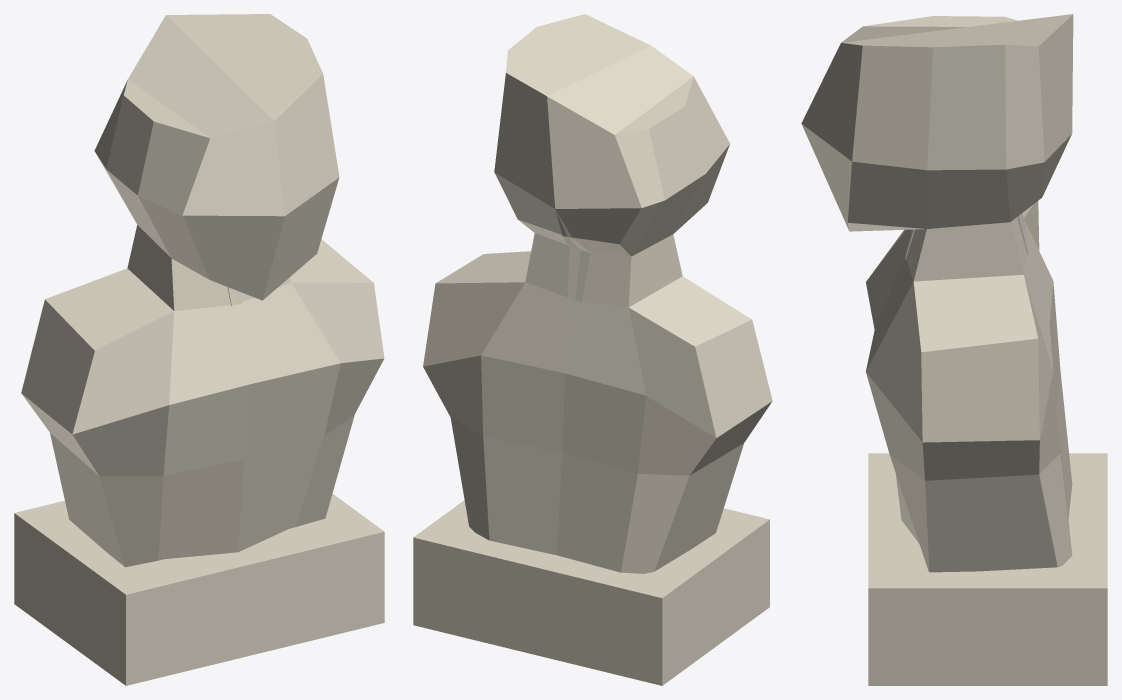
File: Busto.fbx
The picture shows the model from 3 angles, left to right: view 1: azimuth 30°, elevation 25°; view 2: azimuth 150°, elevation 25°; view 3: azimuth 270°, elevation 25°; orthographic projection. The views are drawn at different scales.
Parts seen in each view (by area): view 1: Cube.002, Cube, Cube.001; view 2: Cube.002, Cube, Cube.001; view 3: Cube, Cube.002, Cube.001.
Part boxes in pixels (x1,y1,x2,y2): Cube.002: (21,239,384,567); Cube: (94,14,339,310); Cube.001: (14,493,384,685); Cube.002: (423,251,772,573); Cube: (494,14,729,307); Cube.001: (413,500,769,685); Cube: (801,14,1073,281); Cube.002: (866,201,1072,572); Cube.001: (868,453,1107,685).
Size of the model in its own units: 260 by 457 by 206.
